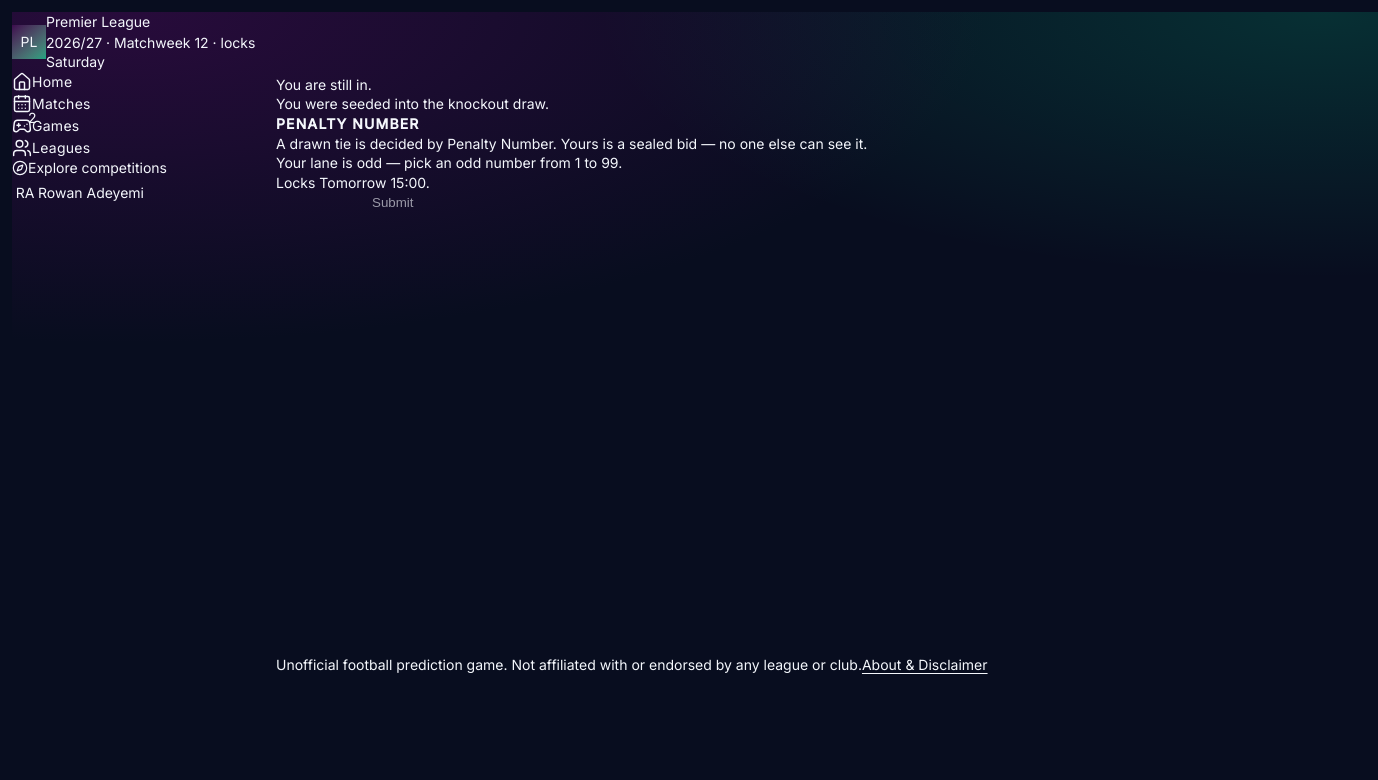
it: the Penalty Number field takes digits and nothing else › keeps only the digits of 0x11
The image size is (1378, 780).
Type "0x11" into the field named "Your Penalty Number" at (324, 202), box [276, 194, 372, 210]
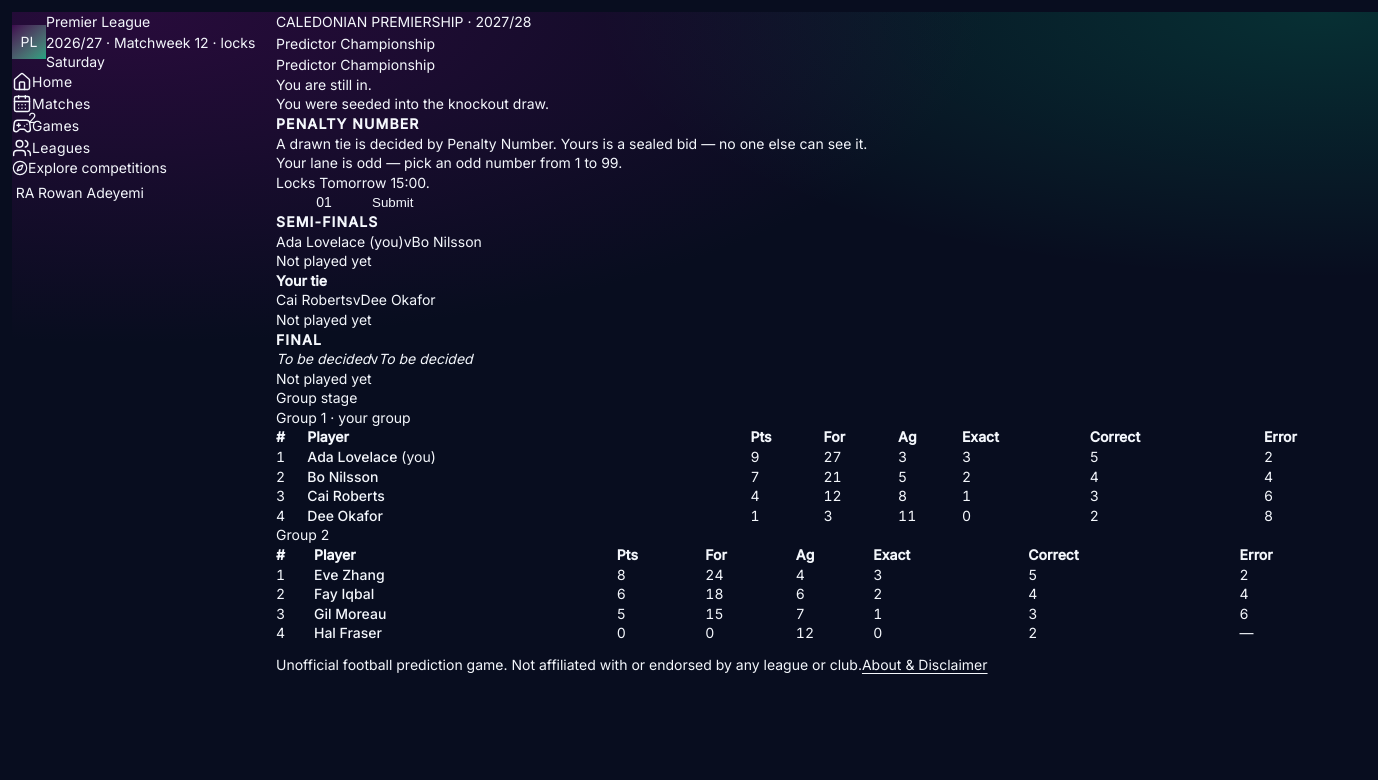
Expected: the field named "Your Penalty Number" holds "01", [276, 194, 372, 210]
